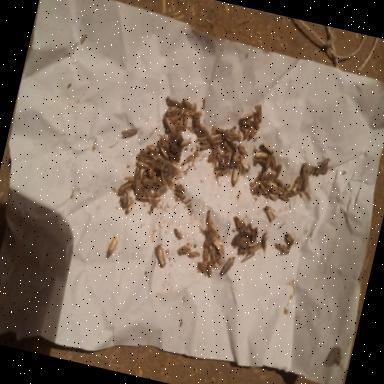pbw: (218, 255, 236, 280), (116, 178, 134, 200), (188, 112, 204, 136), (227, 166, 243, 190), (164, 96, 186, 112), (176, 240, 193, 260), (202, 231, 219, 251), (210, 239, 228, 257), (153, 182, 170, 201), (272, 242, 292, 258), (251, 103, 266, 124), (258, 232, 270, 257), (222, 130, 238, 148), (262, 205, 278, 223), (242, 122, 255, 144), (214, 146, 228, 166), (246, 124, 260, 144), (299, 169, 311, 192), (208, 223, 224, 240), (162, 104, 178, 121), (230, 216, 245, 234), (159, 132, 172, 152), (216, 164, 232, 180), (240, 250, 256, 266), (140, 178, 158, 192), (168, 188, 187, 201), (185, 109, 204, 122), (229, 148, 240, 170), (207, 244, 219, 264), (132, 178, 144, 198), (124, 197, 136, 217), (200, 248, 212, 268), (235, 144, 250, 160), (238, 158, 252, 175), (203, 210, 215, 229), (285, 186, 300, 201), (180, 98, 196, 112), (238, 118, 254, 132), (179, 114, 190, 134), (290, 176, 302, 194), (267, 154, 279, 172), (196, 124, 212, 137), (249, 240, 262, 256), (180, 154, 193, 170), (222, 148, 232, 168), (196, 262, 210, 276), (282, 233, 296, 247), (263, 170, 277, 184), (158, 146, 172, 160), (198, 142, 213, 155), (272, 185, 288, 197), (135, 160, 151, 172), (205, 260, 215, 279), (250, 226, 260, 245), (261, 180, 278, 191), (250, 180, 263, 194), (145, 143, 160, 155), (274, 163, 284, 180), (134, 194, 151, 204), (172, 228, 184, 242), (262, 143, 276, 155), (194, 134, 208, 146), (241, 110, 255, 122), (187, 250, 201, 262), (179, 106, 189, 122), (236, 162, 246, 178), (254, 150, 270, 160), (172, 145, 184, 158), (266, 190, 279, 202), (237, 124, 248, 138), (158, 172, 169, 186), (252, 112, 262, 127), (222, 141, 234, 153), (264, 154, 272, 172), (211, 136, 224, 147), (211, 132, 222, 144), (180, 138, 193, 148), (298, 164, 306, 180), (272, 178, 284, 188), (260, 166, 268, 181), (248, 239, 260, 249), (278, 194, 290, 204), (148, 152, 160, 162), (252, 157, 266, 165), (256, 180, 266, 191), (214, 127, 226, 136), (213, 160, 220, 172), (262, 192, 271, 200)
